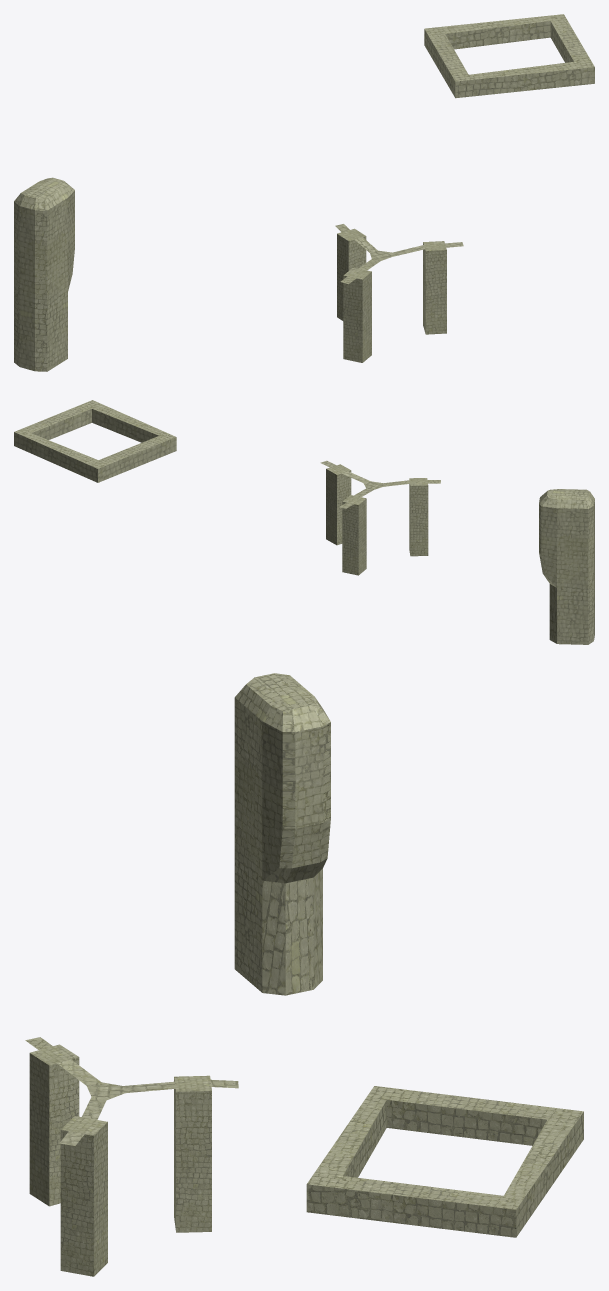
Rendered from SM_Chateaux_08_01.fbx.
3 views of the same model, one above another, from view 1: azimuth 30°, elevation 25°; view 2: azimuth 150°, elevation 25°; view 3: azimuth 270°, elevation 25° (orthographic). The views are drawn at different scales.
Visible parts, largest first — view 1: SM_Chateaux_08_01; view 2: SM_Chateaux_08_01; view 3: SM_Chateaux_08_01.
Boxes of the visible parts, x1=… form: SM_Chateaux_08_01: x1=14, y1=14, x2=594, y2=371; SM_Chateaux_08_01: x1=14, y1=400, x2=594, y2=644; SM_Chateaux_08_01: x1=25, y1=673, x2=583, y2=1276.
Bounding box in the file's own units: 21133 × 5878 × 9843.
